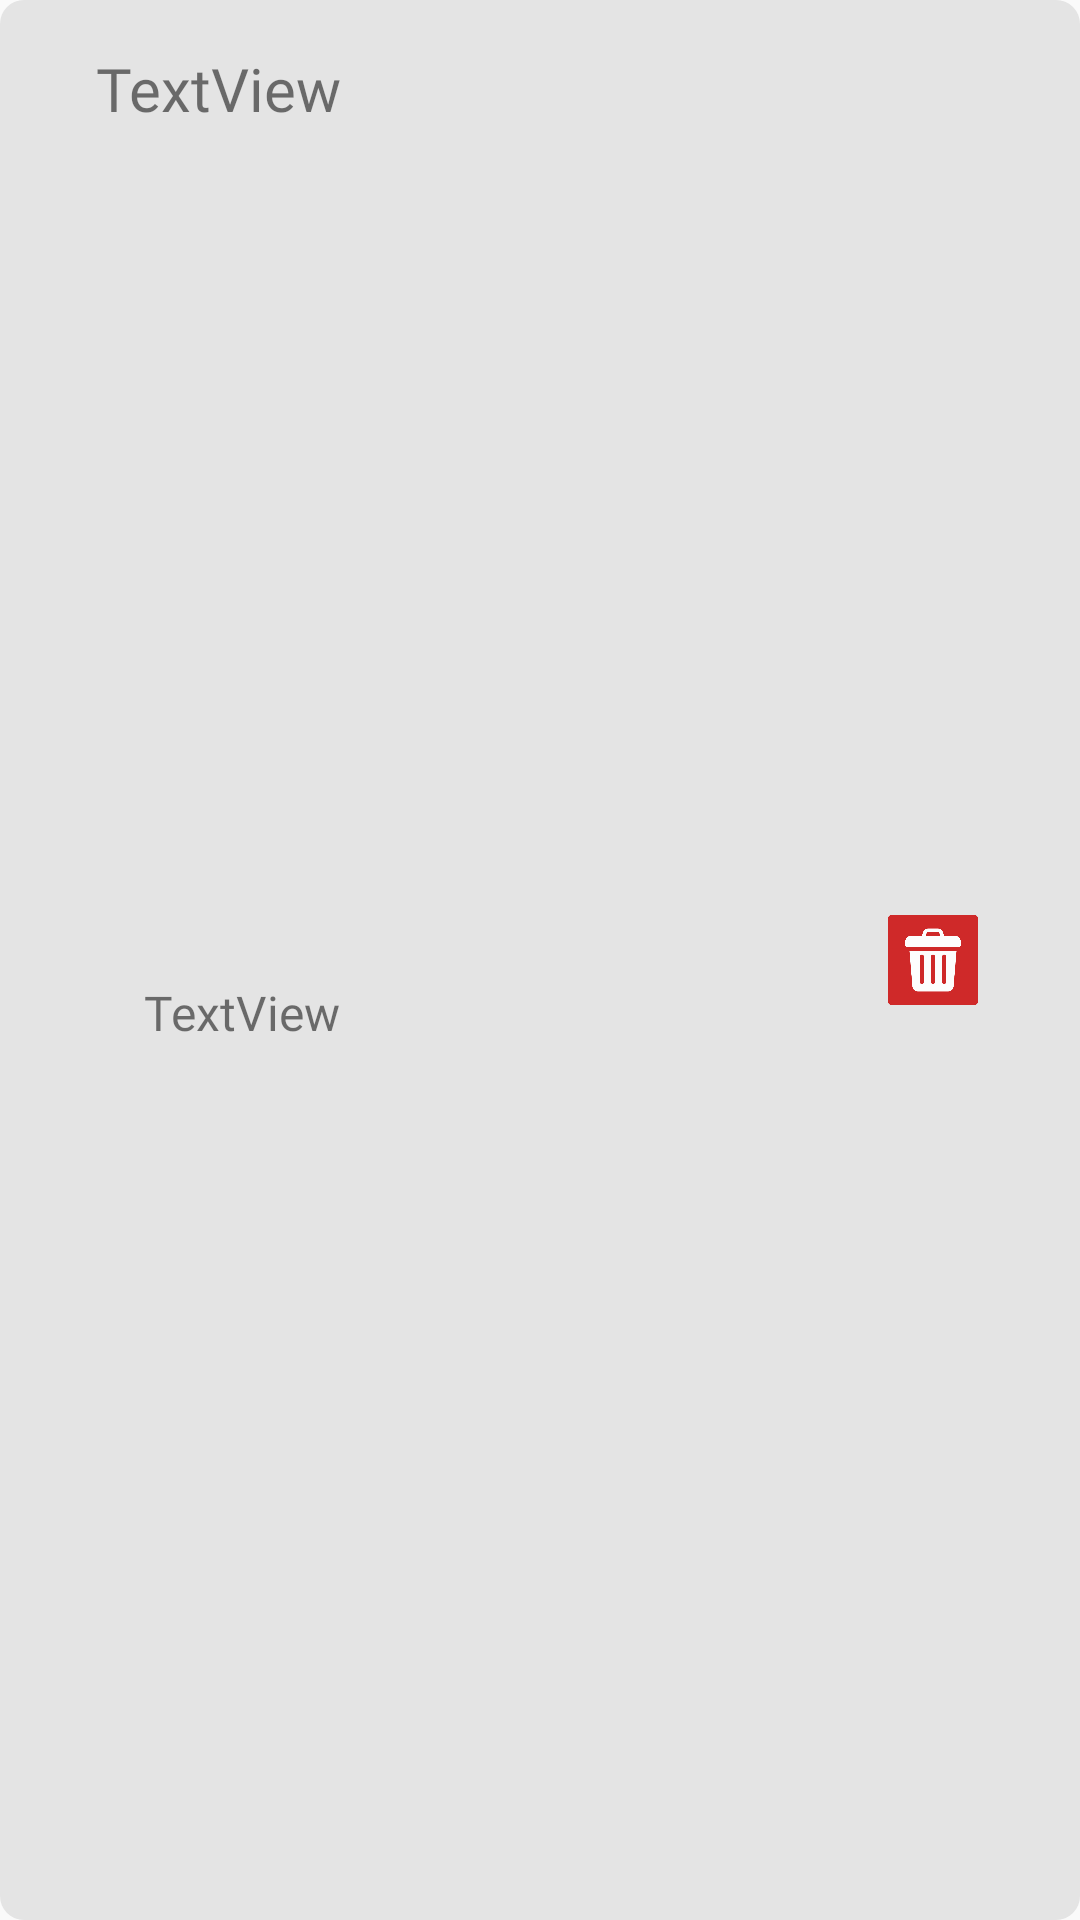

Locate icon controls on the screen. Image size 1080 x 1920, boxes as (x1, y1, x2, y2).
trash can: (888, 915, 978, 1005)
